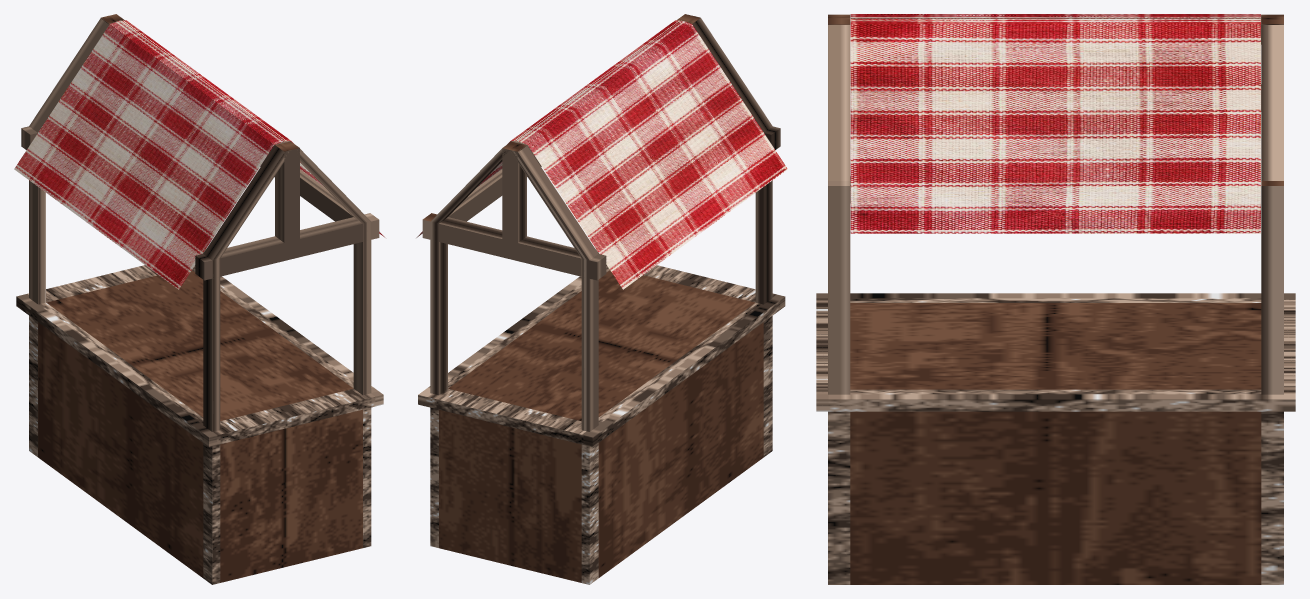
The model's file is stall2.fbx.
3 views of the same model, side by side, from view 1: azimuth 30°, elevation 25°; view 2: azimuth 150°, elevation 25°; view 3: azimuth 270°, elevation 25° (orthographic). The views are drawn at different scales.
Visible parts, largest first — view 1: Cube, Plane.001, Plane; view 2: Cube, Plane.001, Plane; view 3: Cube, Plane, Plane.001.
Boxes of the visible parts, box(x1,y1,x2,y2) form: Cube: box(16, 14, 383, 584); Plane.001: box(14, 20, 283, 289); Plane: box(120, 20, 385, 237); Cube: box(418, 14, 785, 584); Plane.001: box(518, 20, 787, 289); Plane: box(416, 20, 681, 237); Cube: box(816, 14, 1295, 584); Plane: box(850, 19, 1260, 233); Plane.001: box(850, 14, 1260, 18).
Bounding box in the file's own units: 261 × 501 × 419.
3 materials, 3 textured.
